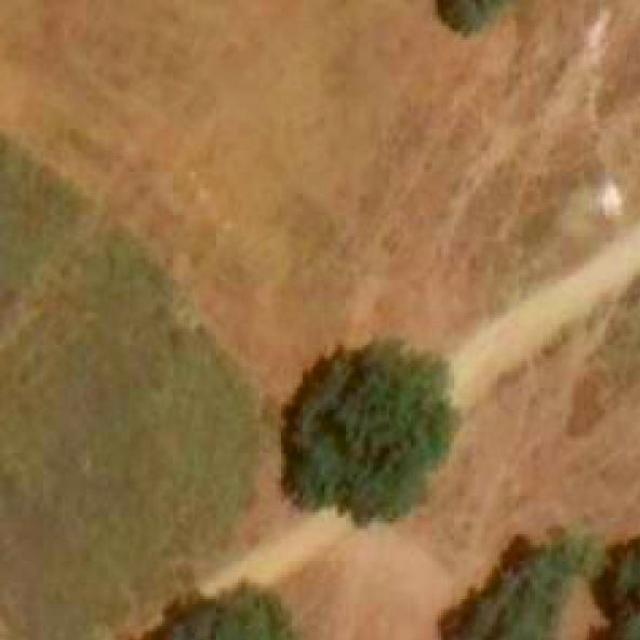Tree: (297, 347, 443, 518), (452, 536, 585, 640), (100, 595, 287, 640), (597, 534, 640, 608), (436, 0, 504, 42), (594, 613, 640, 640)
